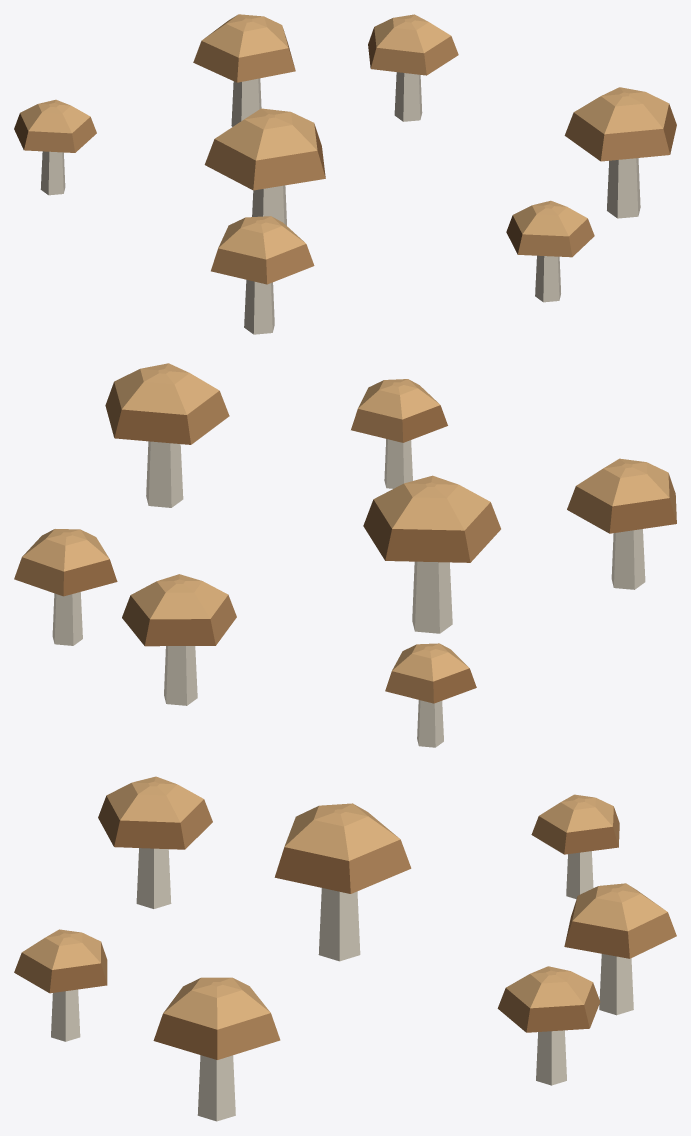
Rendered from mushroom-2.glb.
3 renders of one model, top to bottom at view 1: azimuth 30°, elevation 25°; view 2: azimuth 150°, elevation 25°; view 3: azimuth 270°, elevation 25°, orthographic. The views are drawn at different scales.
Visible parts, largest first — view 1: mushroom-2; view 2: mushroom-2; view 3: mushroom-2.
Boxes of the visible parts, x1,y1,x2,y2 form: mushroom-2: [14, 14, 676, 334]; mushroom-2: [14, 363, 676, 747]; mushroom-2: [14, 776, 676, 1121].
Bounding box in the file's own units: 0.5196 × 0.1279 × 0.546.
1 material, 1 textured.
